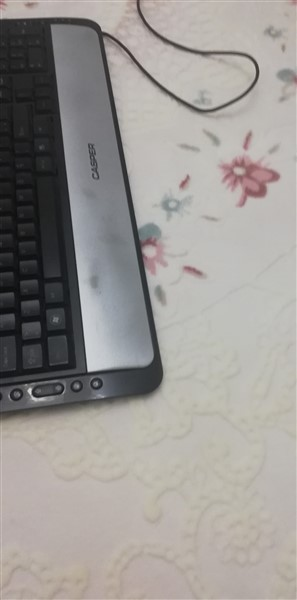klavye: (1, 10, 161, 414)
